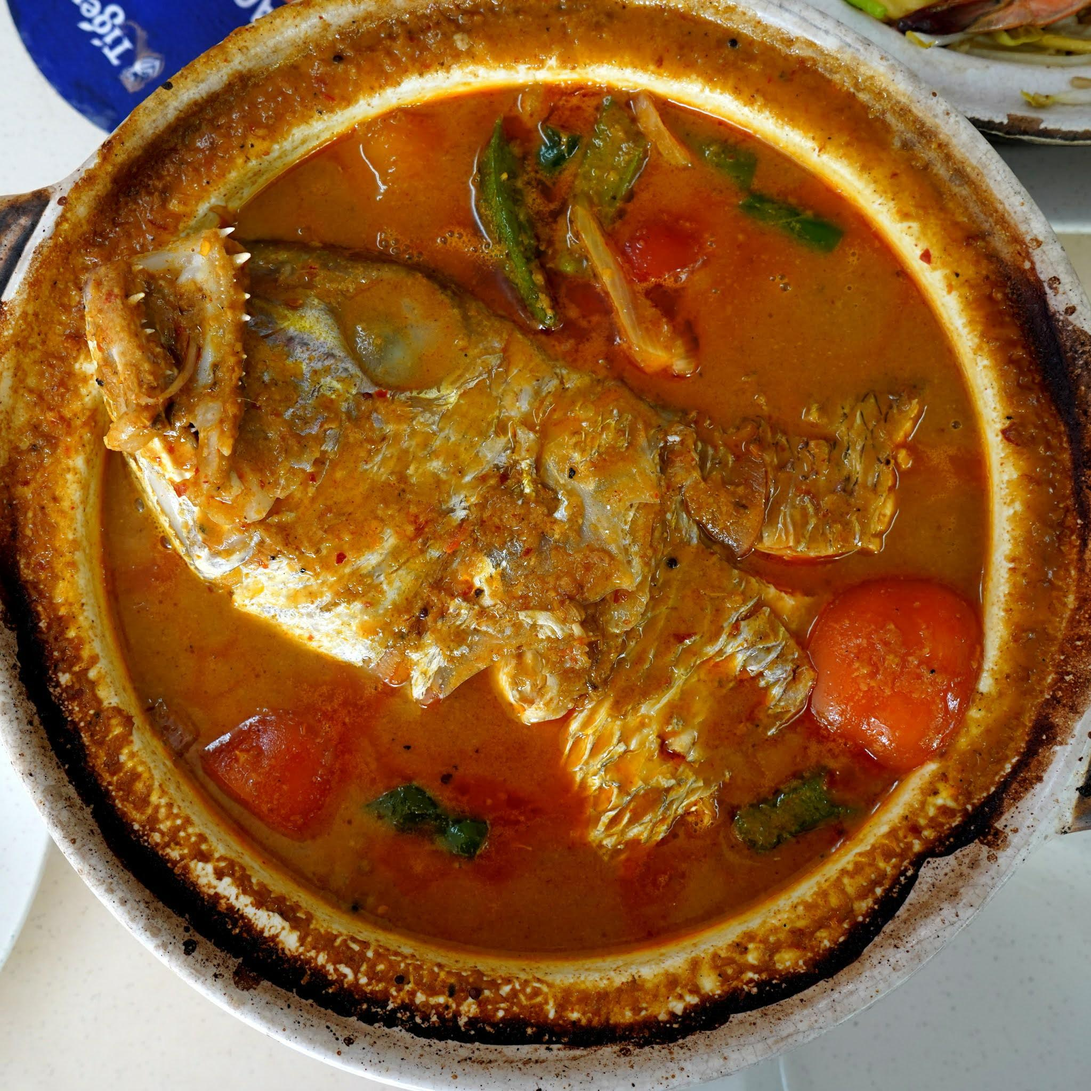FishCurry: (73, 69, 993, 971)
